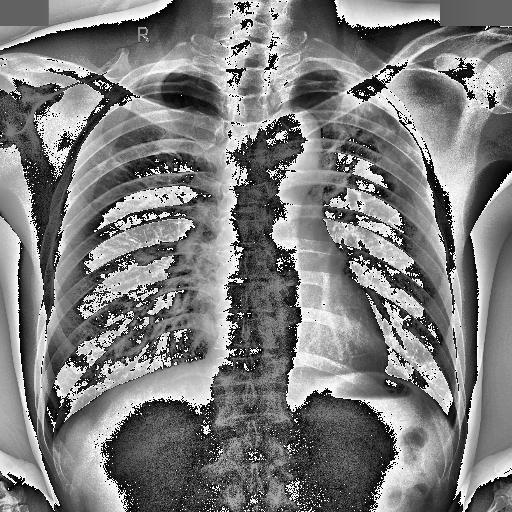0- Aortic enlargement: (264, 108, 322, 184), (266, 107, 320, 164)
10- Pleural effusion: (444, 410, 464, 436)
11- Pleural thickening: (336, 66, 396, 111), (444, 410, 464, 436)
13- Pulmonary fibrosis: (315, 67, 420, 187), (318, 70, 424, 173), (322, 75, 402, 153), (94, 138, 128, 174), (132, 246, 156, 265)
6- Infiltration: (315, 67, 420, 187)
8- Nodule-Mass: (132, 246, 156, 265)
9- Other lesion: (132, 246, 156, 265)
